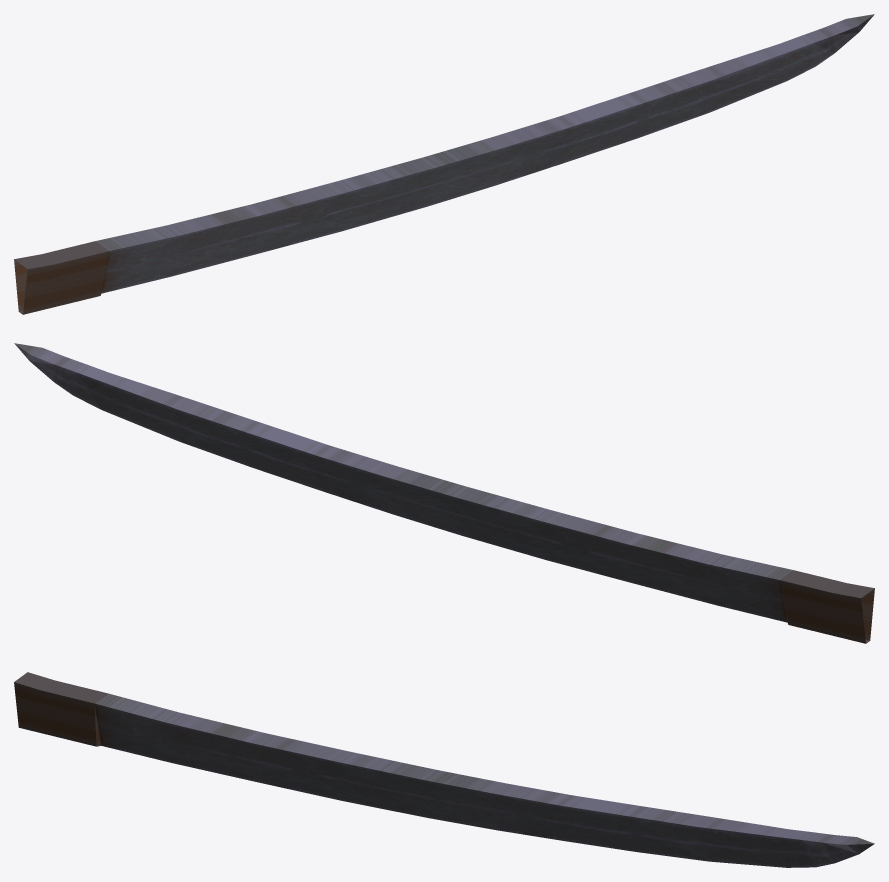
Rendered from Mesh_Sheath_6_0.FBX.
3 renders of one model, top to bottom at view 1: azimuth 30°, elevation 25°; view 2: azimuth 150°, elevation 25°; view 3: azimuth 330°, elevation 25°, orthographic.
Parts seen in each view (by area): view 1: Mesh_Sheath_6_0_R; view 2: Mesh_Sheath_6_0_R; view 3: Mesh_Sheath_6_0_R.
Boxes of the visible parts, left/top/right/bottom form: Mesh_Sheath_6_0_R: left=14, top=14, right=874, bottom=314; Mesh_Sheath_6_0_R: left=14, top=343, right=874, bottom=643; Mesh_Sheath_6_0_R: left=14, top=672, right=874, bottom=867.
Size of the model in its own units: 102 by 10.37 by 2.84.
